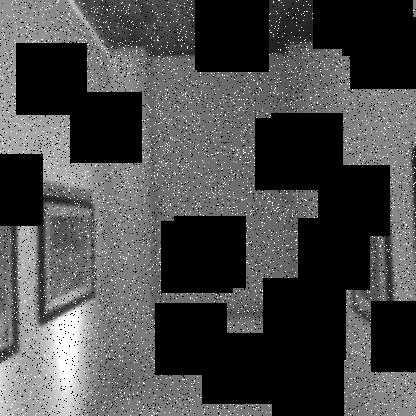Porte: (132, 42, 316, 330)
